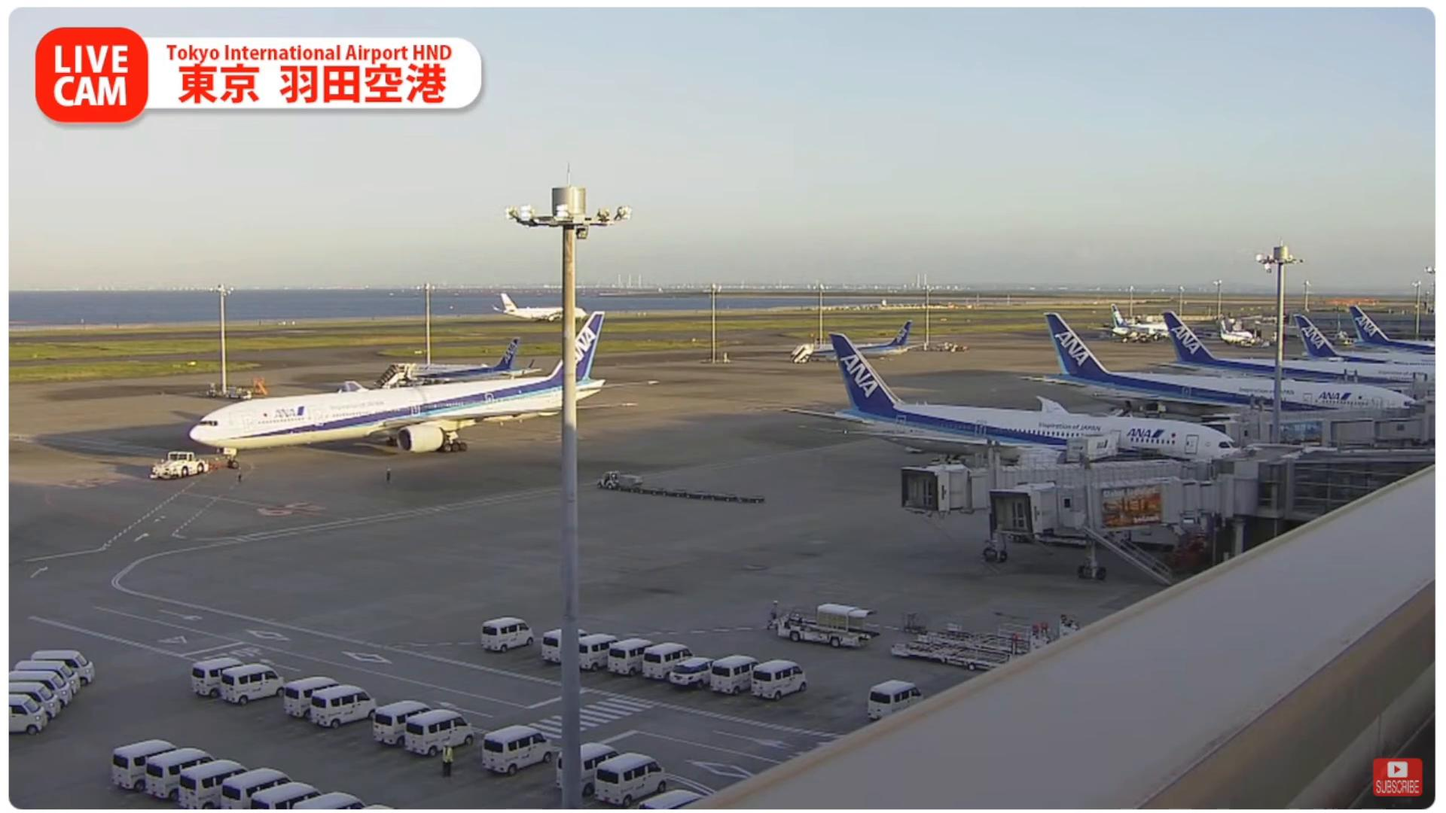APS: (151, 451, 209, 480)
Aerobridge: (899, 437, 1211, 565), (989, 453, 1262, 587)
Airplane: (188, 311, 658, 467)
Dolly: (618, 485, 764, 503)
JCPL: (892, 633, 1051, 670), (919, 618, 1080, 650)
Skyloader: (777, 599, 879, 648)
Tractor: (597, 470, 619, 489)
ULD: (618, 474, 643, 489)
Window: (1291, 461, 1433, 515)
